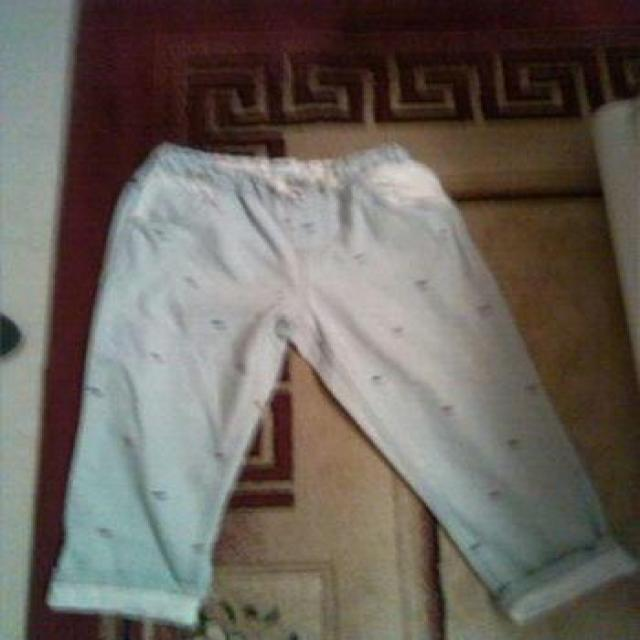trousers: (55, 116, 627, 626)
